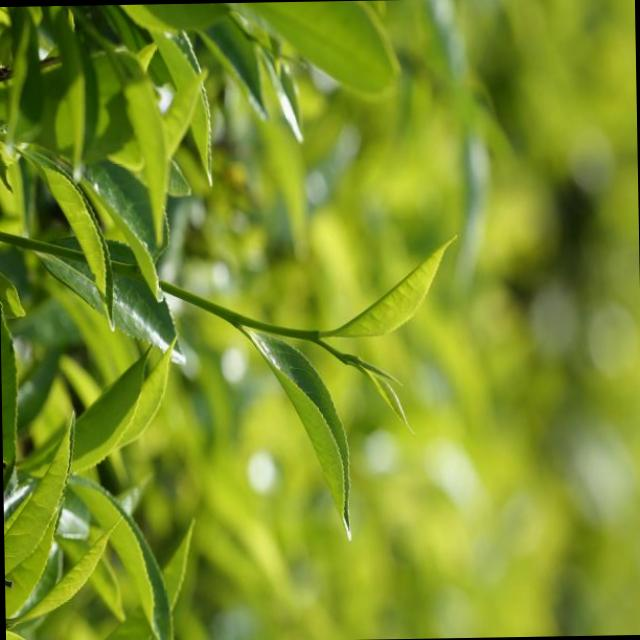Stem: (230, 311, 246, 325)
